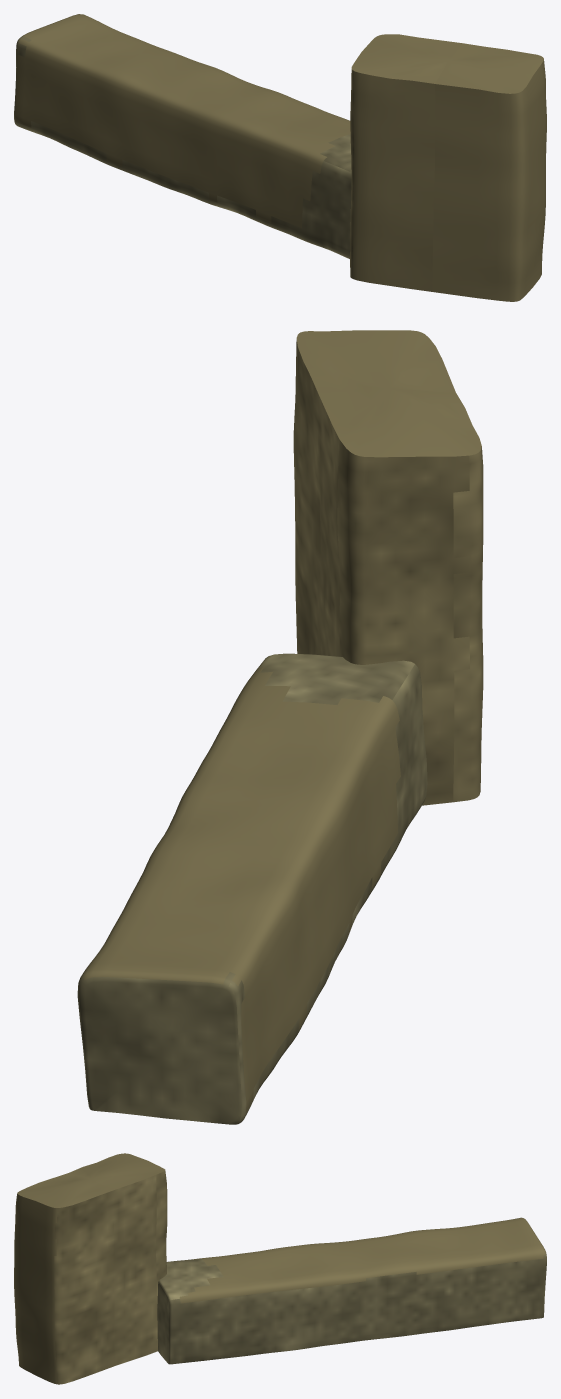
File: ZonHenge08.glb
3 renders of one model, top to bottom at view 1: azimuth 30°, elevation 25°; view 2: azimuth 150°, elevation 25°; view 3: azimuth 270°, elevation 25°, orthographic. The views are drawn at different scales.
Parts seen in each view (by area): view 1: ZonHenge08; view 2: ZonHenge08; view 3: ZonHenge08.
Part boxes in pixels (box(x1,y1,x2,y2)): ZonHenge08: box(14, 14, 546, 301); ZonHenge08: box(77, 330, 483, 1124); ZonHenge08: box(14, 1153, 546, 1384).
Size of the model in its own units: 2.65 by 2.18 by 5.95.
Materials: 2 (1 with a texture image).
